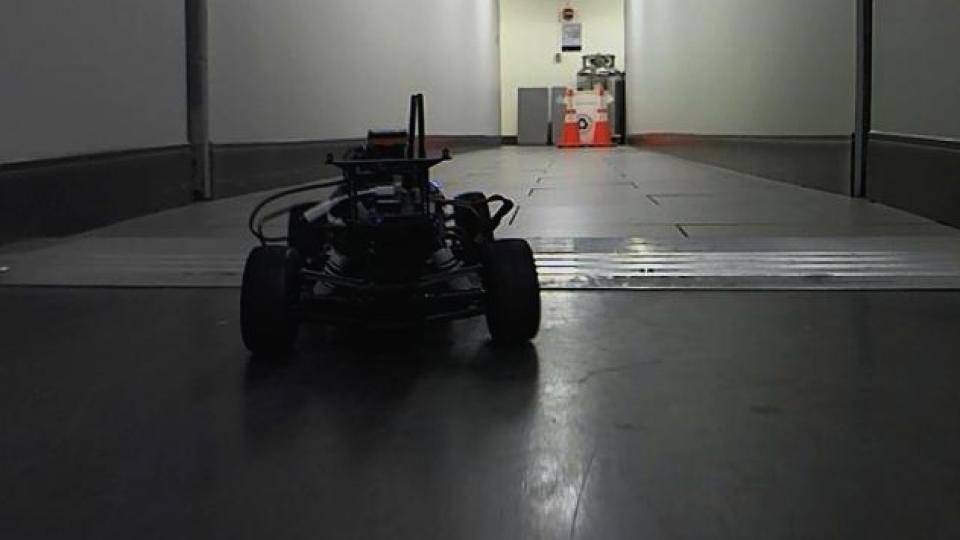car: (235, 91, 544, 360)
